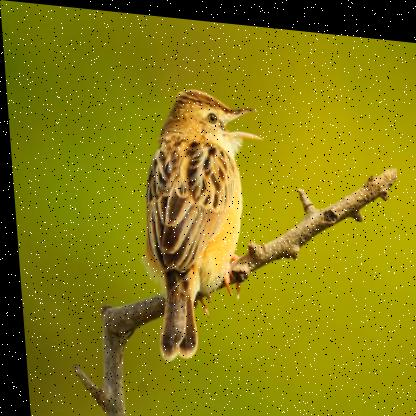Burung: (133, 79, 275, 368)
